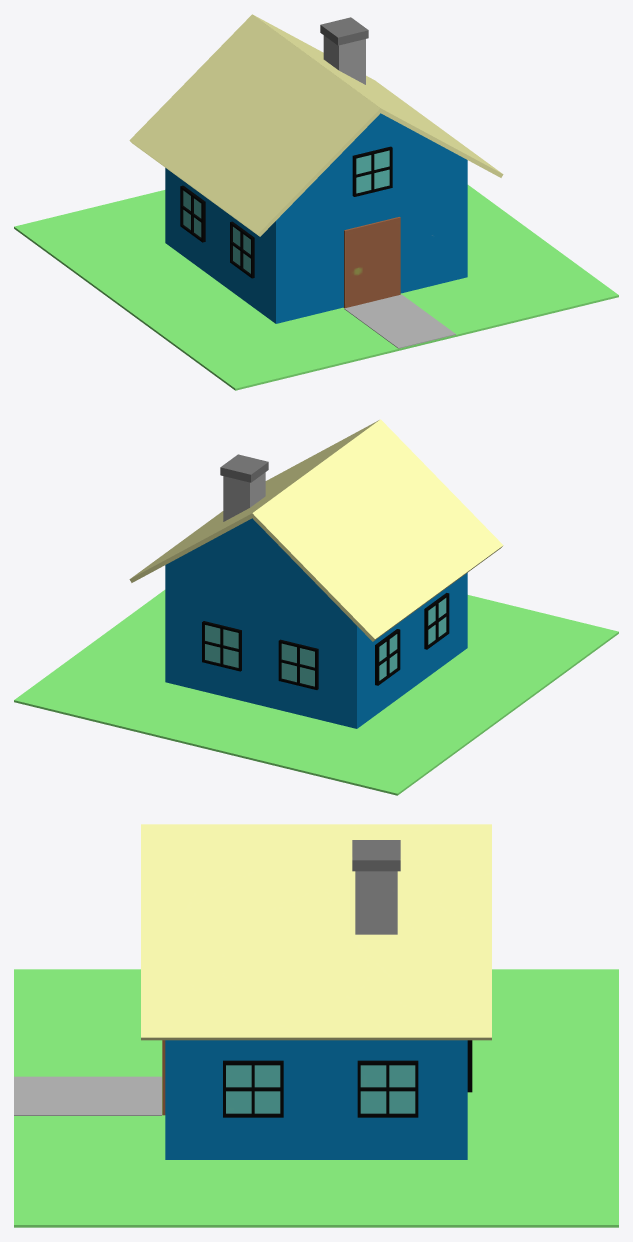
Rendered from house1_blueyellow.gltf.
3 views of the same model, one above another, from view 1: azimuth 30°, elevation 25°; view 2: azimuth 150°, elevation 25°; view 3: azimuth 270°, elevation 25° (orthographic). The views are drawn at different scales.
Parts seen in each view (by area): view 1: Cube, house.002, house_cube, house.001, house.005, house.003, house.056, house.004, house.007, house.006; view 2: Cube, house.002, house_cube, house.001, house.003, house.004, house.035, house.042, house.006, house.021, house.049; view 3: Cube, house.003, house_cube, house.056, house.004, house.028, house.014, house.006.
Boxes of the visible parts, <box> form: Cube: <box>14,185,618,390</box>; house.002: <box>129,14,382,236</box>; house_cube: <box>165,159,467,323</box>; house.001: <box>295,113,465,200</box>; house.005: <box>343,217,400,308</box>; house.003: <box>253,15,503,177</box>; house.056: <box>344,294,455,348</box>; house.004: <box>323,35,365,84</box>; house.007: <box>356,150,389,193</box>; house.006: <box>320,17,368,45</box>; Cube: <box>14,590,618,795</box>; house.002: <box>250,419,503,641</box>; house_cube: <box>165,564,467,728</box>; house.001: <box>167,518,337,605</box>; house.003: <box>129,420,379,582</box>; house.004: <box>223,472,265,521</box>; house.035: <box>205,625,238,667</box>; house.042: <box>281,643,314,686</box>; house.006: <box>220,454,268,482</box>; house.021: <box>428,598,446,644</box>; house.049: <box>379,634,397,680</box>; Cube: <box>14,969,618,1227</box>; house.003: <box>141,824,491,1040</box>; house_cube: <box>165,1040,467,1159</box>; house.056: <box>14,1076,161,1115</box>; house.004: <box>355,871,397,934</box>; house.028: <box>360,1065,415,1113</box>; house.014: <box>226,1065,280,1113</box>; house.006: <box>352,840,400,871</box>.
Bounding box in the file's own units: 20 × 10.32 × 20.
2 materials, 2 textured.
